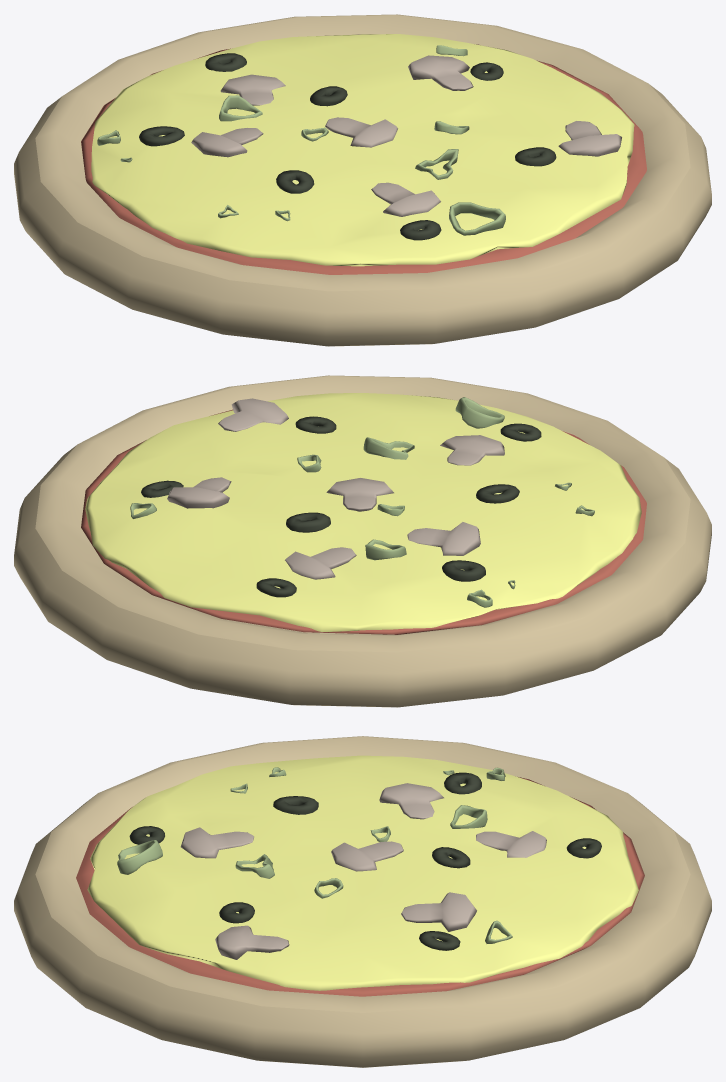
The model's file is thick_mushroom.gltf.
3 renders of one model, top to bottom at view 1: azimuth 30°, elevation 25°; view 2: azimuth 150°, elevation 25°; view 3: azimuth 270°, elevation 25°, orthographic.
Parts seen in each view (by area): view 1: cheese, thick, polySurface128, polySurface162, polySurface129, polySurface163, polySurface130, polySurface161, polySurface174, polySurface156, polySurface159, polySurface157 (+5 smaller); view 2: cheese, thick, polySurface130, polySurface162, polySurface161, polySurface128, polySurface163, polySurface129, polySurface174, polySurface156, polySurface182, polySurface155 (+5 smaller); view 3: cheese, thick, polySurface128, polySurface162, polySurface130, polySurface163, polySurface129, polySurface161, polySurface174, polySurface159, polySurface156, polySurface158 (+4 smaller).
Part boxes in pixels (left/top/right/bottom): cheese: left=91, top=34, right=634, bottom=266; thick: left=14, top=14, right=711, bottom=346; polySurface128: left=408, top=55, right=473, bottom=90; polySurface162: left=558, top=121, right=621, bottom=156; polySurface129: left=371, top=182, right=440, bottom=216; polySurface163: left=325, top=117, right=397, bottom=147; polySurface130: left=191, top=128, right=263, bottom=157; polySurface161: left=220, top=74, right=285, bottom=105; polySurface174: left=449, top=202, right=505, bottom=235; polySurface156: left=139, top=126, right=184, bottom=146; polySurface159: left=276, top=170, right=314, bottom=193; polySurface157: left=400, top=220, right=441, bottom=240; cheese: left=85, top=393, right=641, bottom=631; thick: left=14, top=375, right=711, bottom=707; polySurface130: left=407, top=522, right=480, bottom=555; polySurface162: left=218, top=398, right=288, bottom=431; polySurface161: left=285, top=547, right=356, bottom=579; polySurface128: left=167, top=477, right=231, bottom=508; polySurface163: left=326, top=478, right=393, bottom=511; polySurface129: left=440, top=435, right=504, bottom=465; polySurface174: left=455, top=397, right=504, bottom=428; polySurface156: left=442, top=560, right=485, bottom=581; polySurface182: left=363, top=437, right=414, bottom=459; polySurface155: left=286, top=512, right=330, bottom=532; cheese: left=87, top=755, right=638, bottom=990; thick: left=14, top=736, right=711, bottom=1067; polySurface128: left=401, top=892, right=476, bottom=931; polySurface162: left=215, top=925, right=289, bottom=959; polySurface130: left=379, top=783, right=443, bottom=819; polySurface163: left=331, top=841, right=403, bottom=871; polySurface129: left=180, top=827, right=253, bottom=858; polySurface161: left=476, top=831, right=546, bottom=857; polySurface174: left=117, top=840, right=162, bottom=874; polySurface159: left=273, top=796, right=318, bottom=814; polySurface156: left=444, top=772, right=481, bottom=794; polySurface158: left=419, top=931, right=460, bottom=950.
Bounding box in the file's own units: 0.1035 × 0.0138 × 0.1035.
